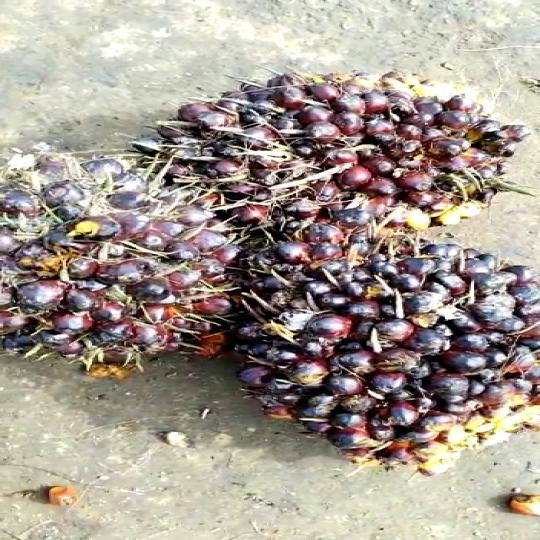kurang masak: (184, 197, 540, 481), (145, 49, 518, 244), (0, 137, 264, 395)
